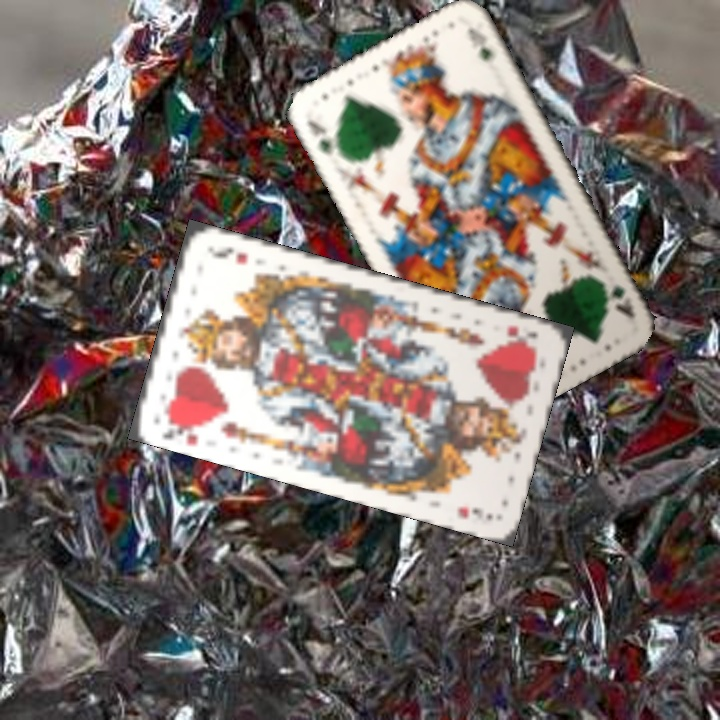GK: (596, 275, 638, 324), (301, 108, 336, 158)
HK: (158, 413, 209, 448), (502, 321, 541, 352)
